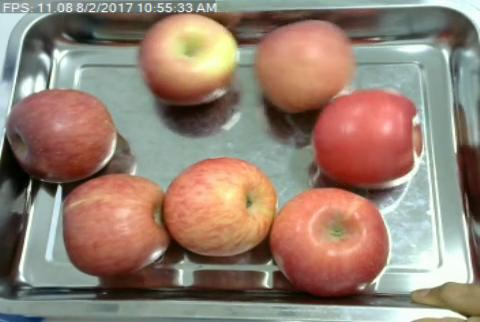apple: (271, 187, 391, 298), (314, 88, 425, 189), (6, 86, 117, 185), (165, 158, 277, 254), (62, 174, 167, 275), (139, 13, 243, 108), (256, 18, 356, 113)
